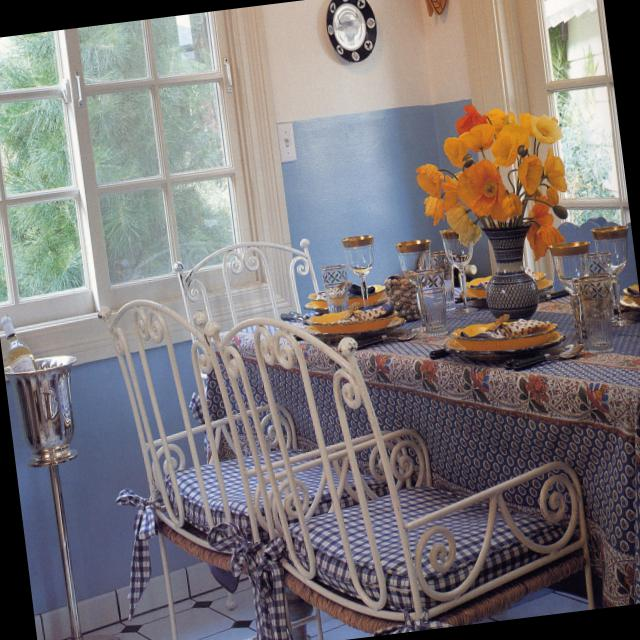bottle crop: (0, 316, 35, 369)
cup and saucer: (548, 241, 589, 355), (590, 225, 629, 326), (395, 238, 430, 333), (438, 228, 476, 312), (340, 235, 372, 305)
